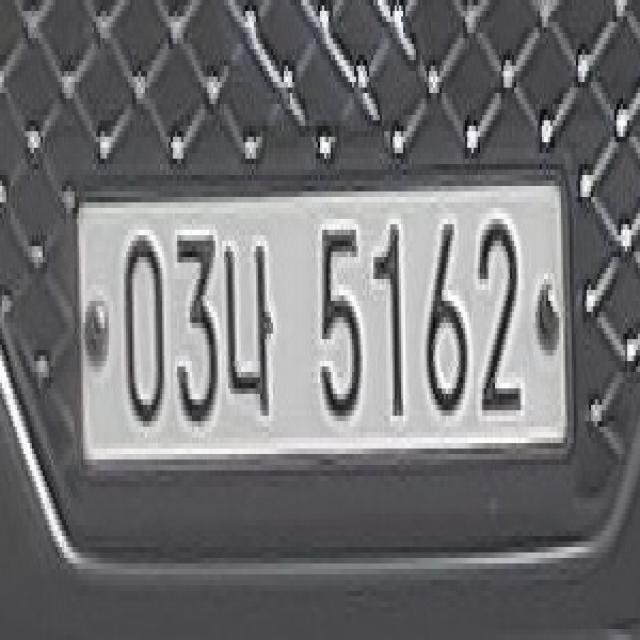0: (119, 216, 169, 436)
1: (372, 192, 412, 453)
2: (478, 212, 532, 422)
3: (173, 226, 224, 444)
5: (321, 214, 368, 442)
6: (423, 209, 477, 432)
license_plate: (63, 141, 596, 510)
na: (226, 226, 282, 434)
